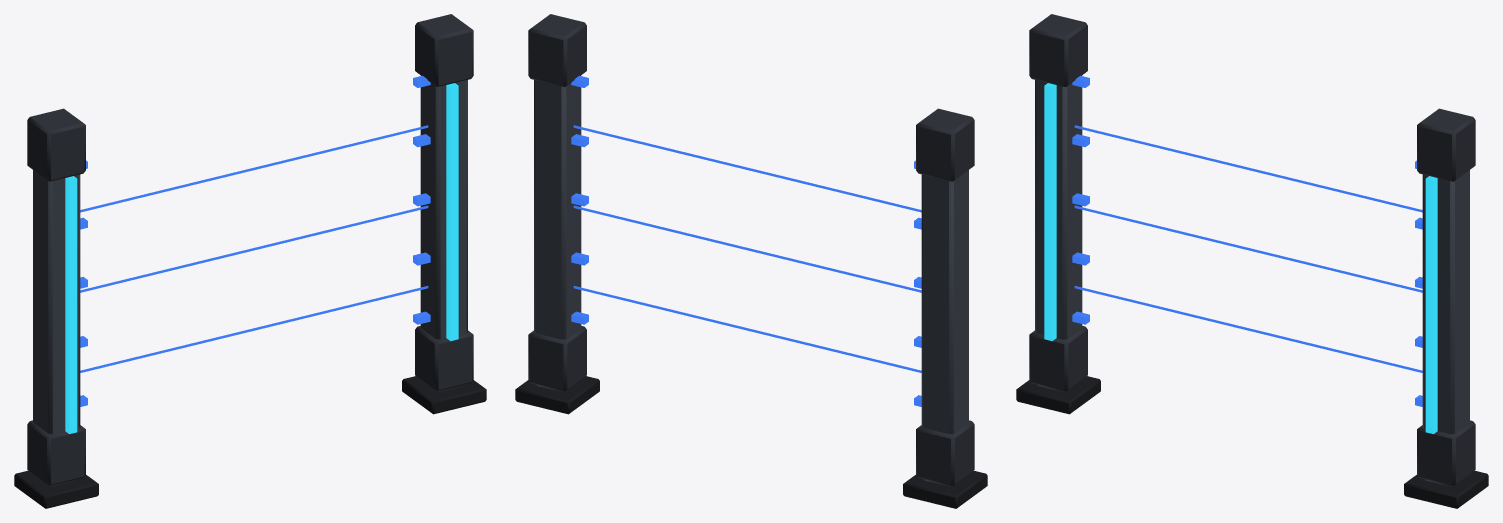
The model's file is forcefield_emitter_pair.glb.
3 views of the same model, side by side, from view 1: azimuth 30°, elevation 25°; view 2: azimuth 150°, elevation 25°; view 3: azimuth 330°, elevation 25° (orthographic).
Visible parts, largest first — view 1: forcefield_emitter_pair; view 2: forcefield_emitter_pair; view 3: forcefield_emitter_pair.
Part boxes in pixels (x1,y1,x2,y2): forcefield_emitter_pair: [14, 14, 486, 508]; forcefield_emitter_pair: [515, 14, 987, 508]; forcefield_emitter_pair: [1016, 14, 1488, 508].
Bounding box in the file's own units: 2.74 × 2.2 × 0.34.
